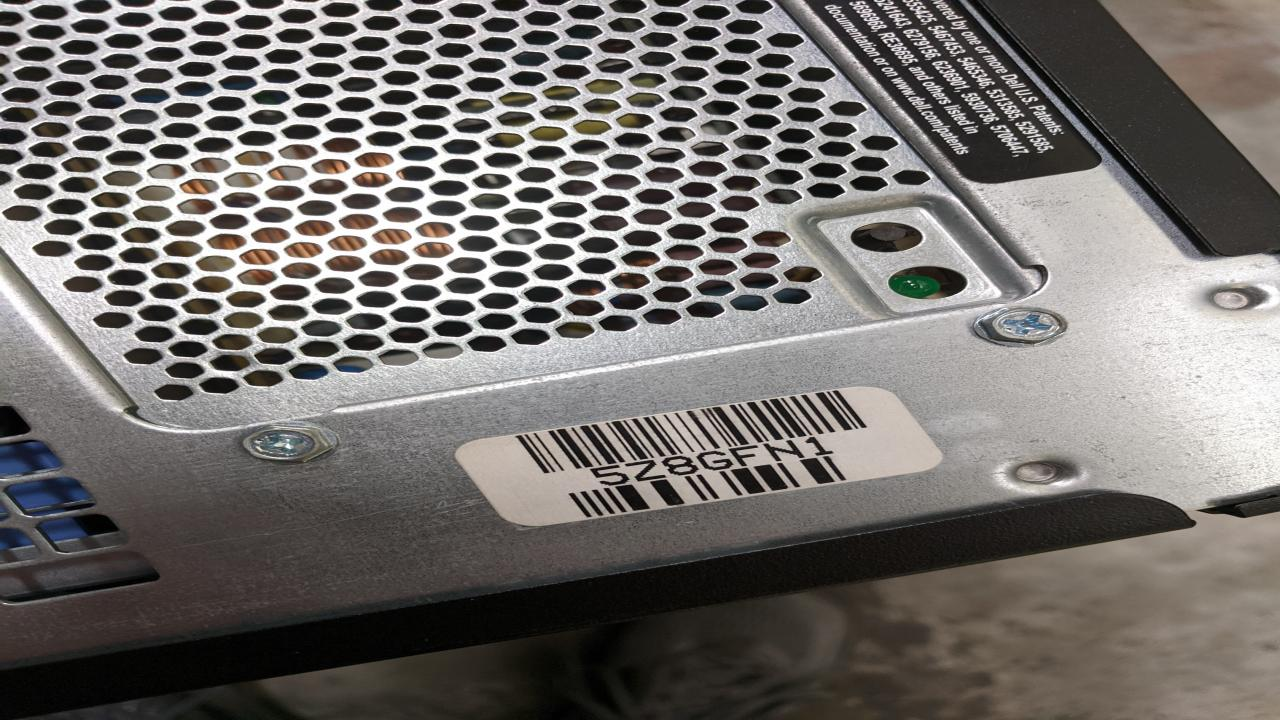CRS: (239, 422, 342, 464), (977, 306, 1067, 347)
